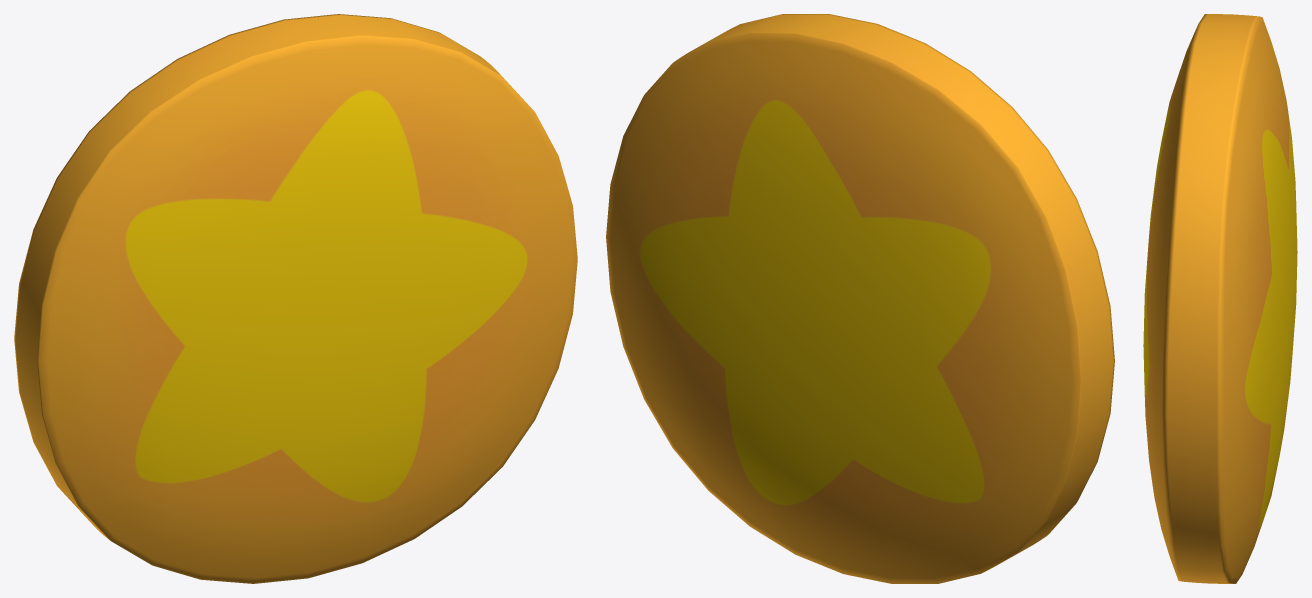
Rendered from koin.gltf.
3 views of the same model, side by side, from view 1: azimuth 30°, elevation 25°; view 2: azimuth 150°, elevation 25°; view 3: azimuth 270°, elevation 25° (orthographic). The views are drawn at different scales.
Visible parts, largest first — view 1: Object_2; view 2: Object_2; view 3: Object_2.
Boxes of the visible parts, <box> form: Object_2: <box>14,14,577,583</box>; Object_2: <box>606,14,1114,583</box>; Object_2: <box>1143,14,1297,583</box>.
Size of the model in its own units: 2.01 by 2 by 0.5475.
1 material, 1 textured.
